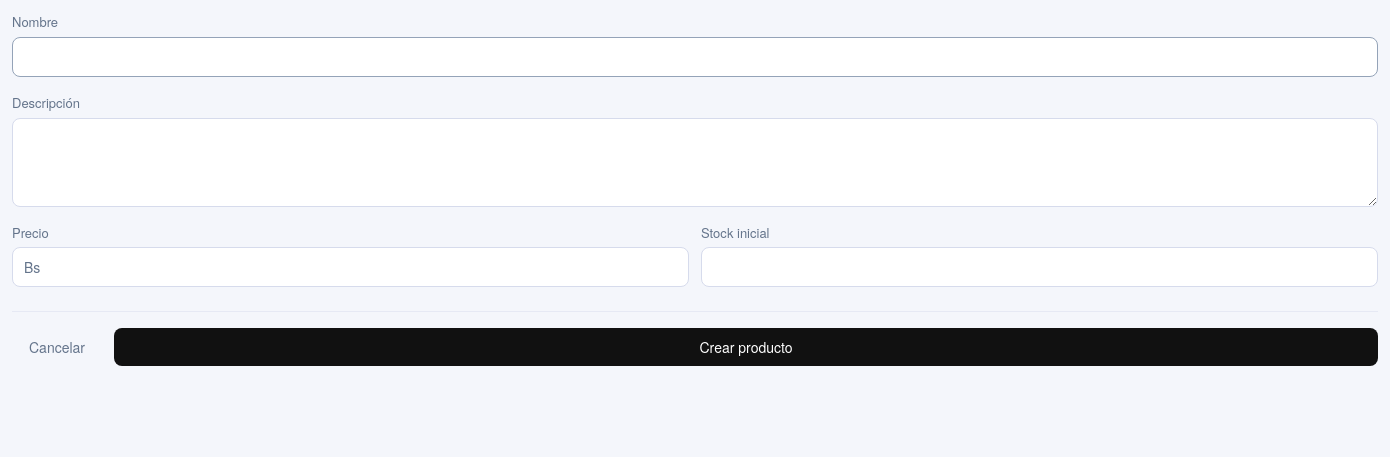
Test: ProductoForm › el mensaje de error de un campo se borra apenas se empieza a corregir, sin esperar a un nuevo submit
Click the button "Crear producto" at (746, 347), box [114,328,1378,366]
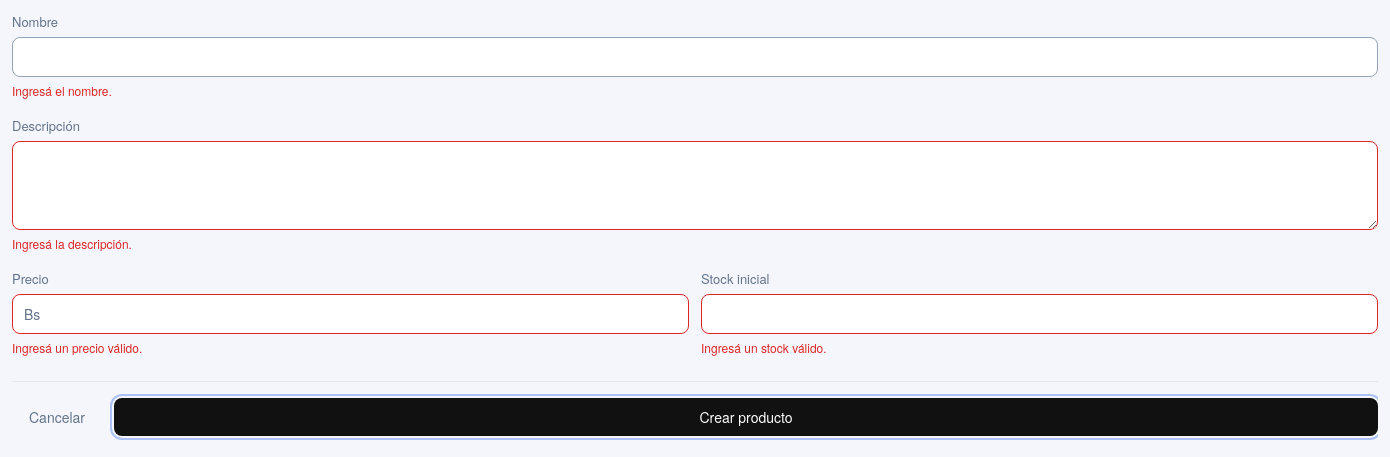
Now the text "Ingresá el nombre." is shown, box [12,82,112,99]
Type "A" into the field labelled "Nombre" at (695, 57), box [12,37,1378,77]
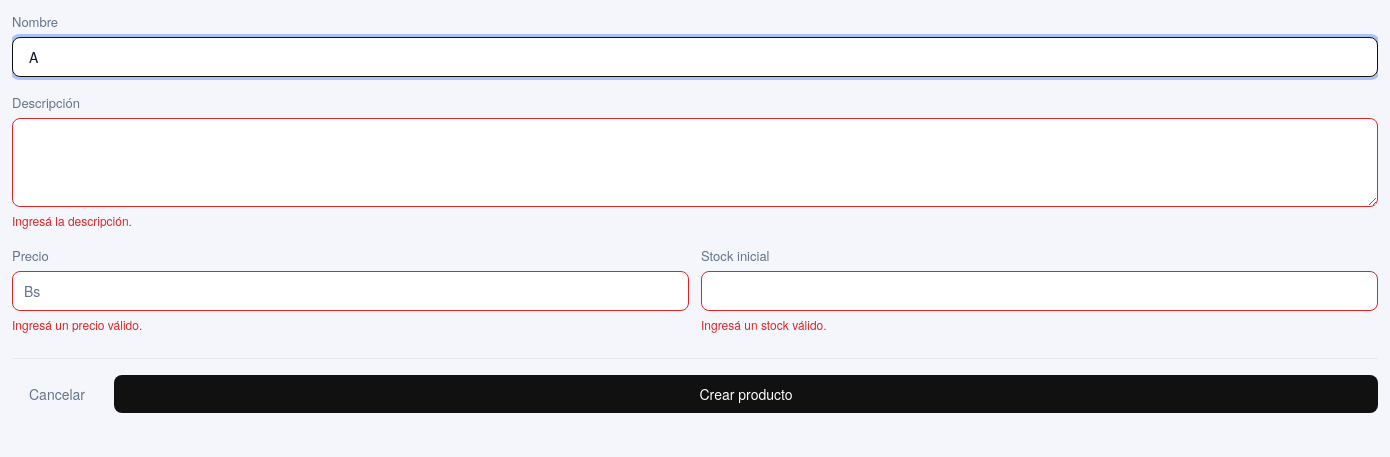
Now the text "Ingresá la descripción." is shown, box [12,212,132,229]
Now the text "Ingresá el nombre." is gone
